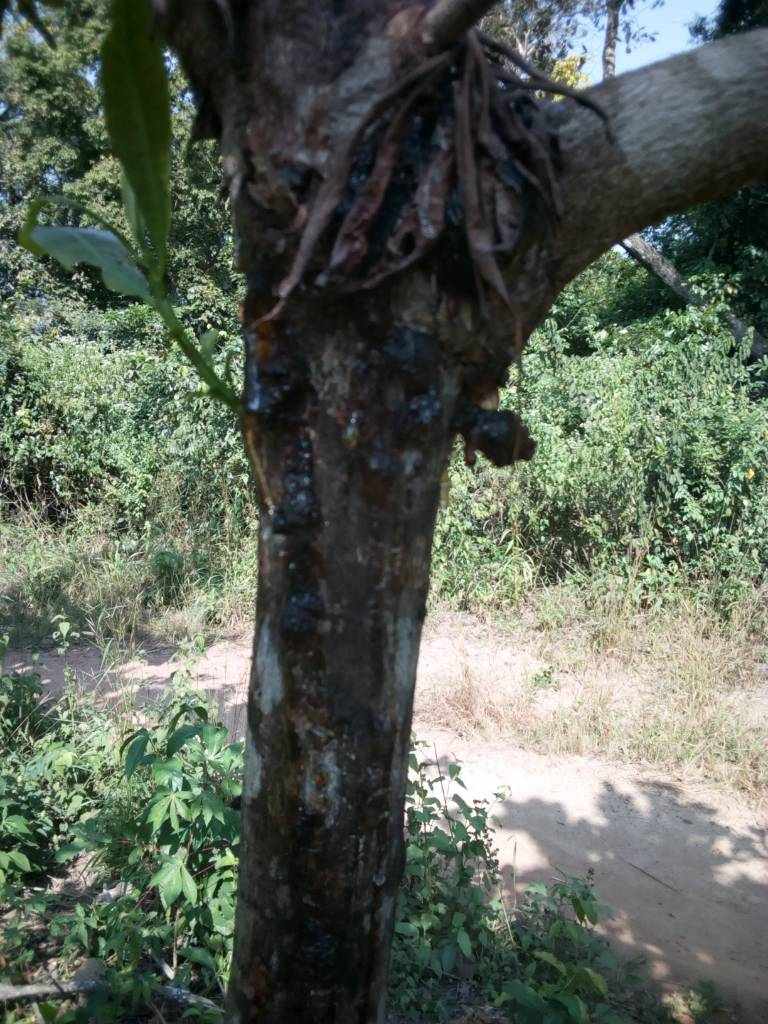Gommose: (247, 483, 380, 1019), (241, 324, 477, 471)
